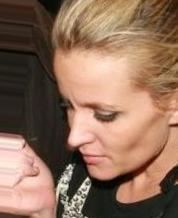face: (61, 91, 124, 165)
